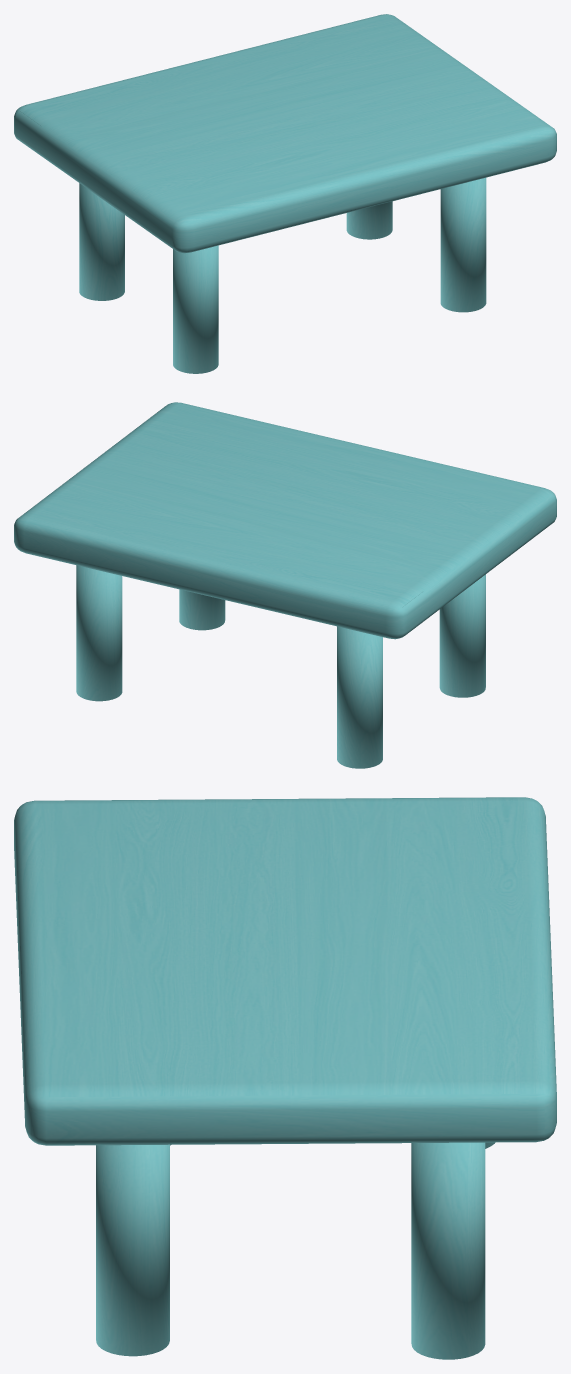
Rendered from MEJA.glb.
The picture shows the model from 3 angles, top to bottom: view 1: azimuth 30°, elevation 25°; view 2: azimuth 150°, elevation 25°; view 3: azimuth 270°, elevation 25°; orthographic projection. The views are drawn at different scales.
Parts seen in each view (by area): view 1: meja.014; view 2: meja.014; view 3: meja.014.
Part boxes in pixels (x1,y1,x2,y2): meja.014: (14,14,556,373); meja.014: (14,402,556,768); meja.014: (14,797,556,1359).
Size of the model in its own units: 26.42 by 11.87 by 19.75.
Materials: 1 (1 with a texture image).
